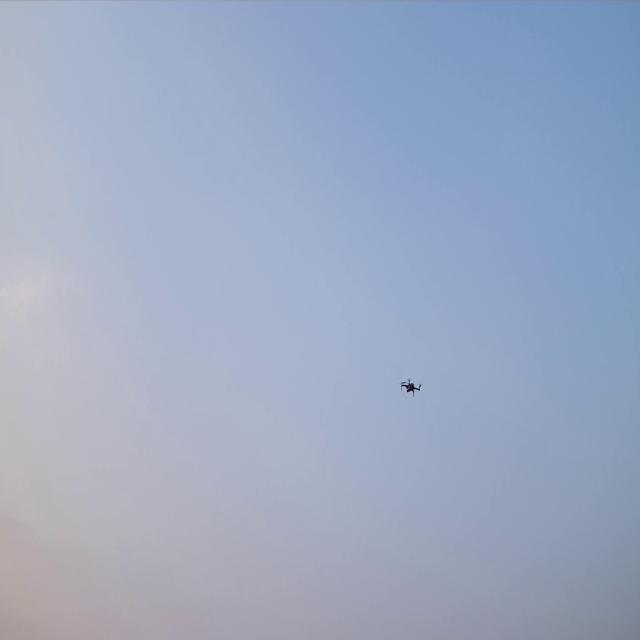UAV: (396, 377, 424, 399)
